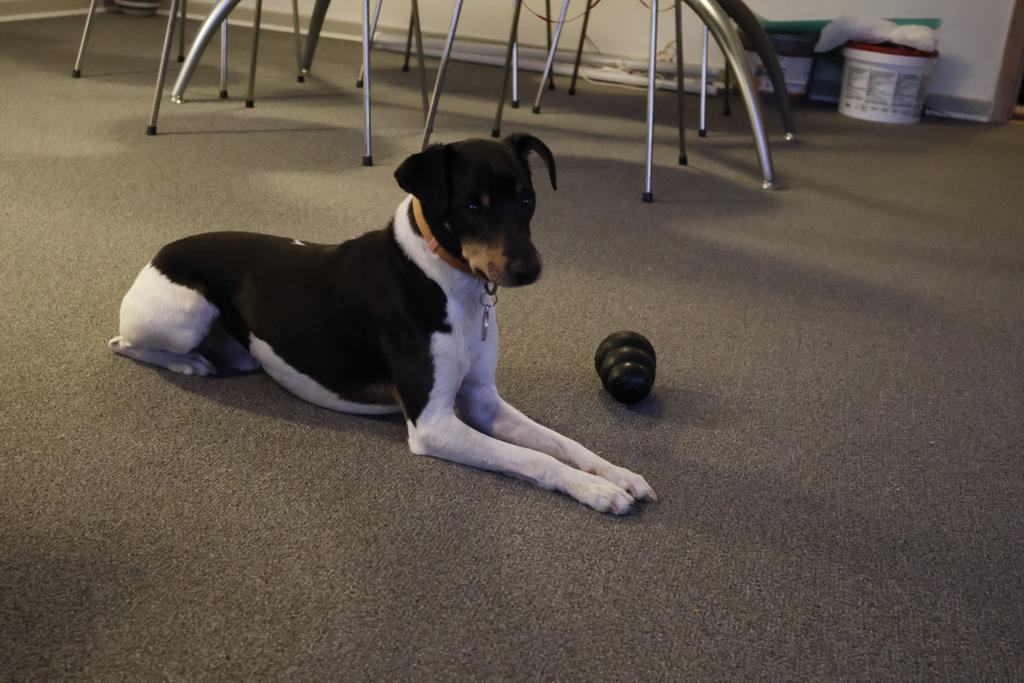Dog: (100, 126, 667, 525)
